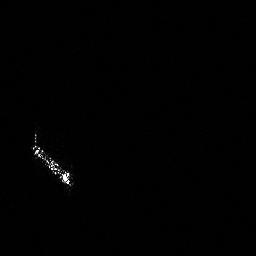ship: (29, 130, 76, 188)
